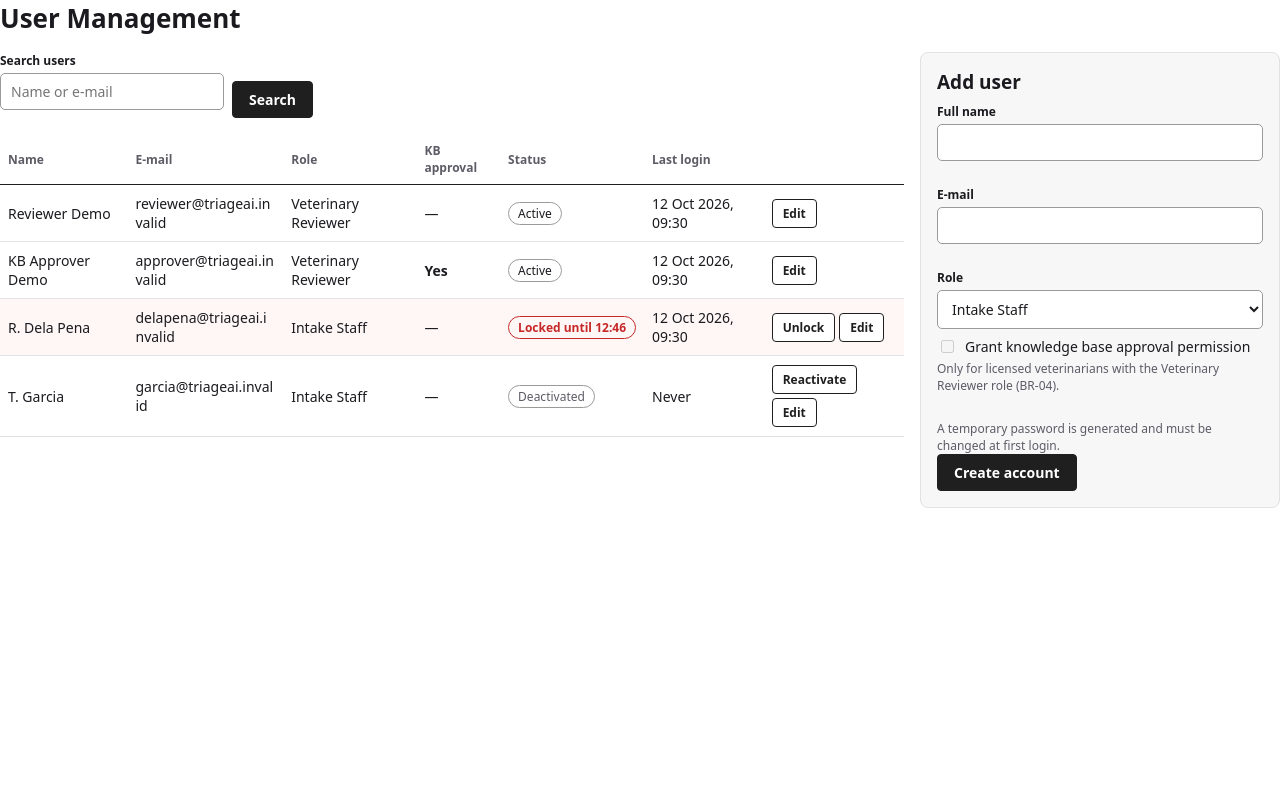
Test: editing an account (FR-60) › sends only what changed
Click the button "Edit" in the row of "Reviewer Demo".
click(794, 213)  # box [772,198,817,228]
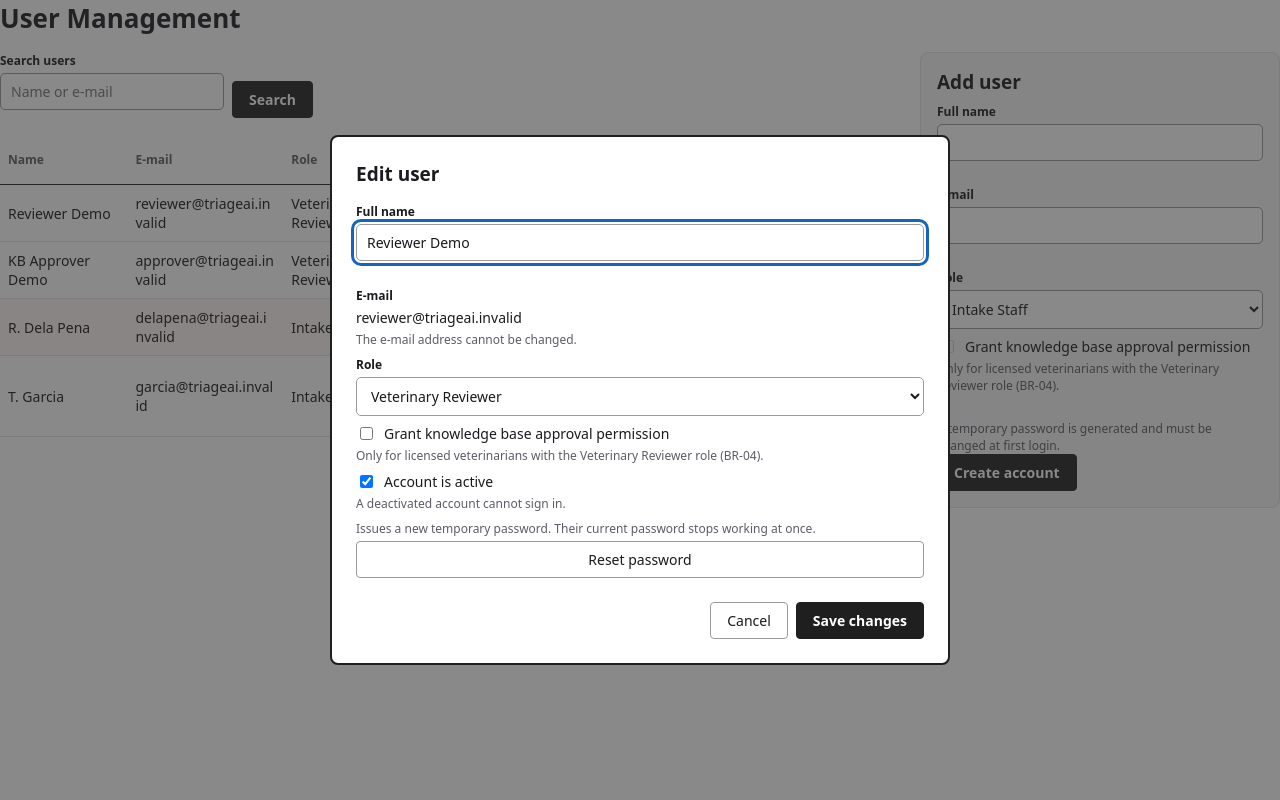
Replace the text in the field labelled "Full name" with "Reviewer Renamed" at x=640, y=243, box [356,224,924,261]
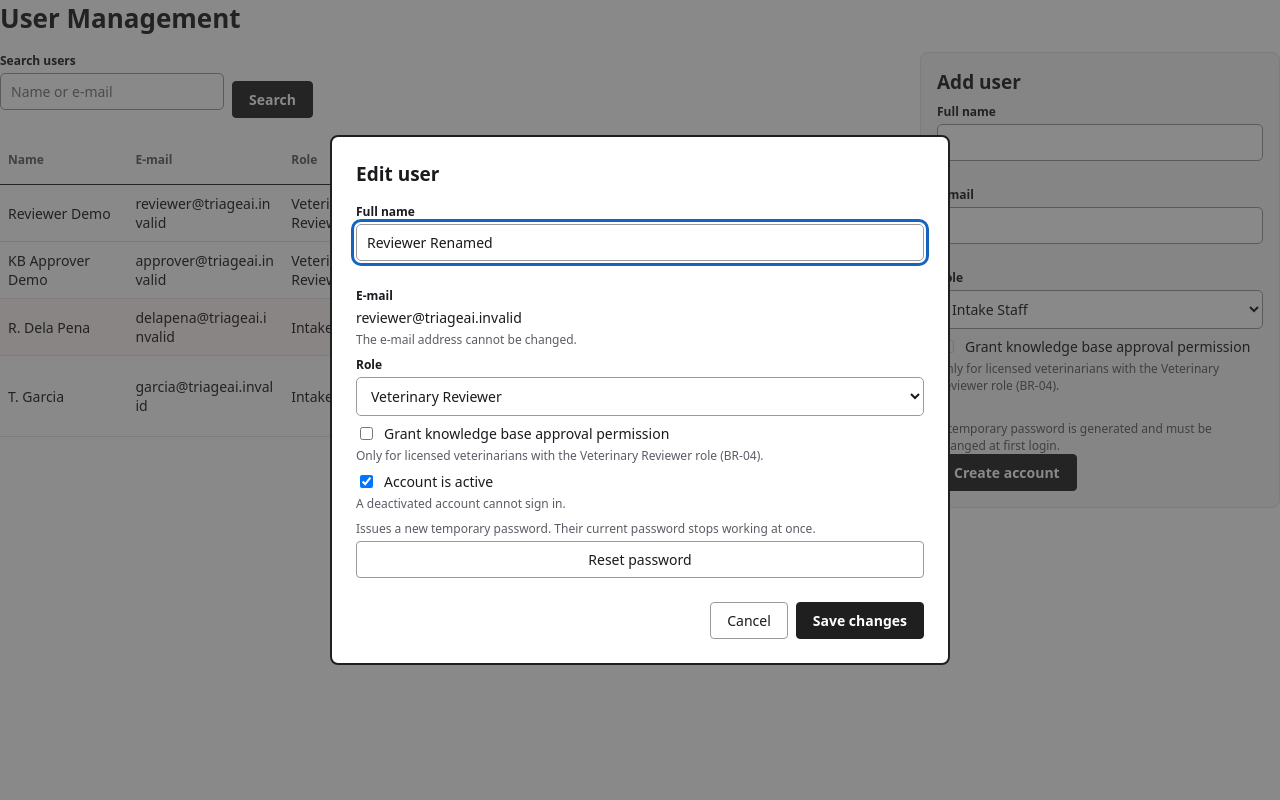
Click the button "Save changes".
click(860, 620)  # box [796,602,924,639]
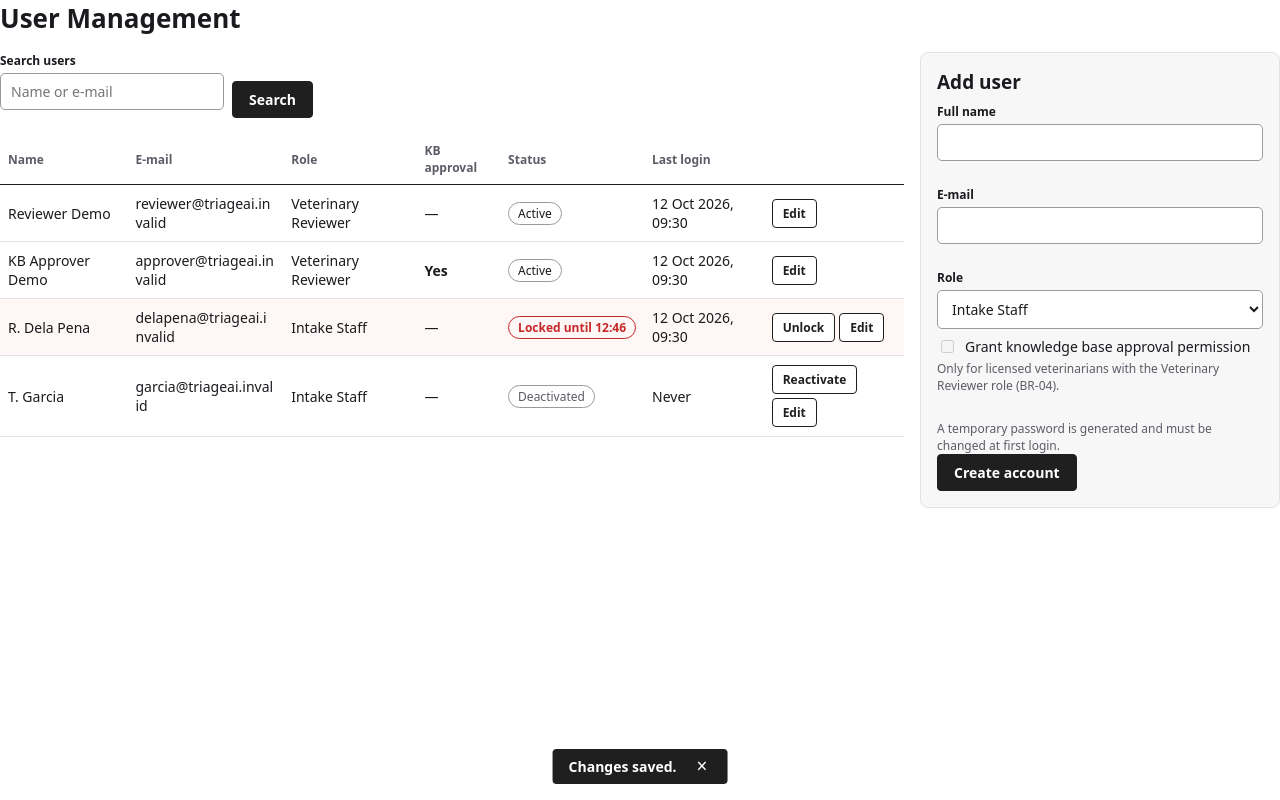
Now the dialog is gone
